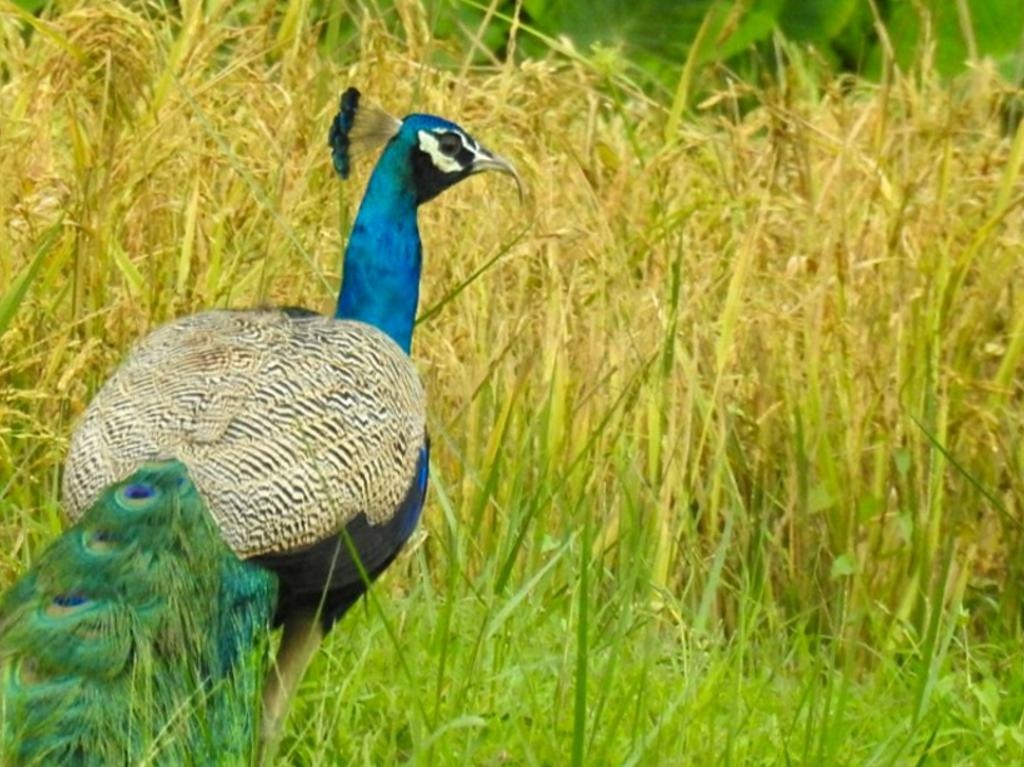peacock: (1, 116, 547, 767)
